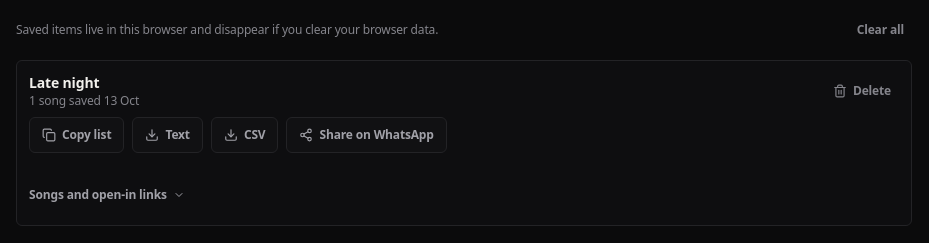
Test: SavedOnDevice › copies the list and reports the outcome
The image size is (929, 243).
Click the button "Copy list".
click(77, 135)  # box top-left (29, 117), bottom-right (124, 153)
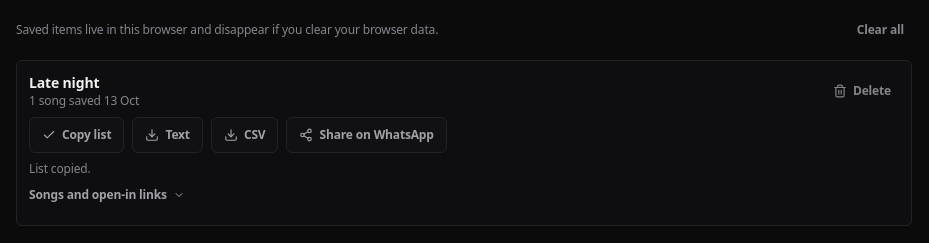
expect the text "List copied." is shown: met, box top-left (29, 160), bottom-right (90, 177)
